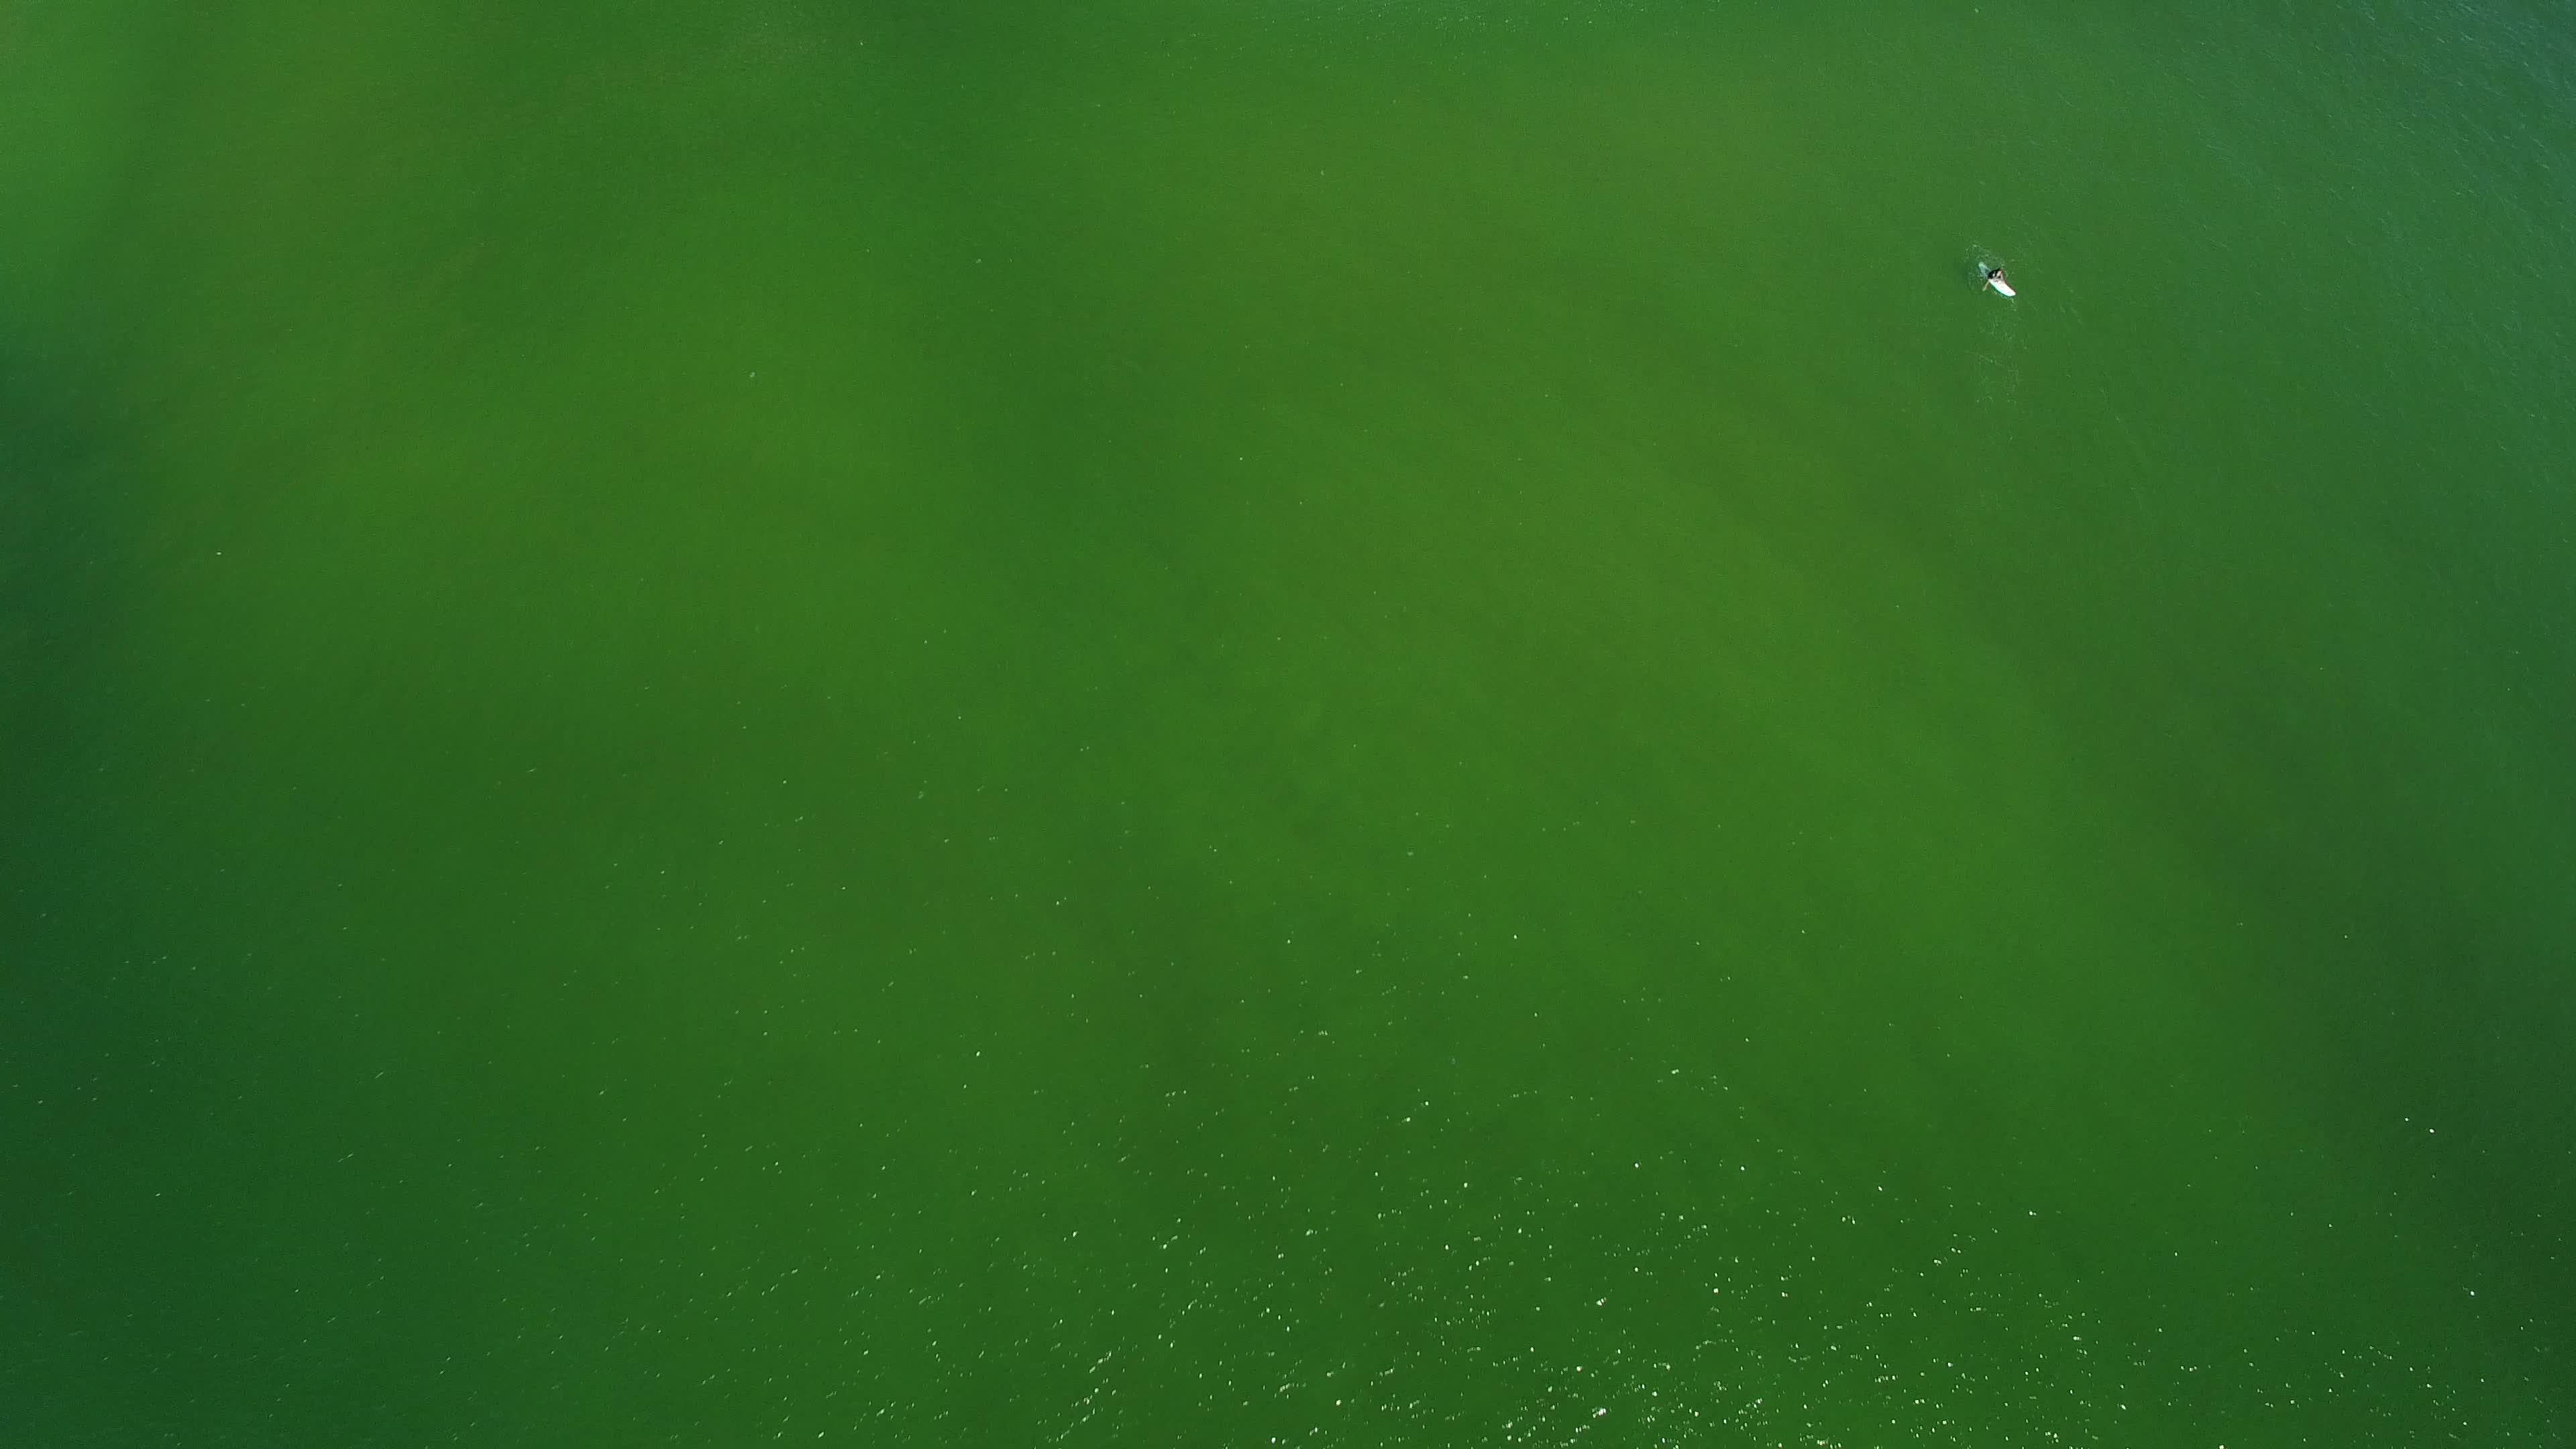surfer: (1962, 251, 2028, 308)
